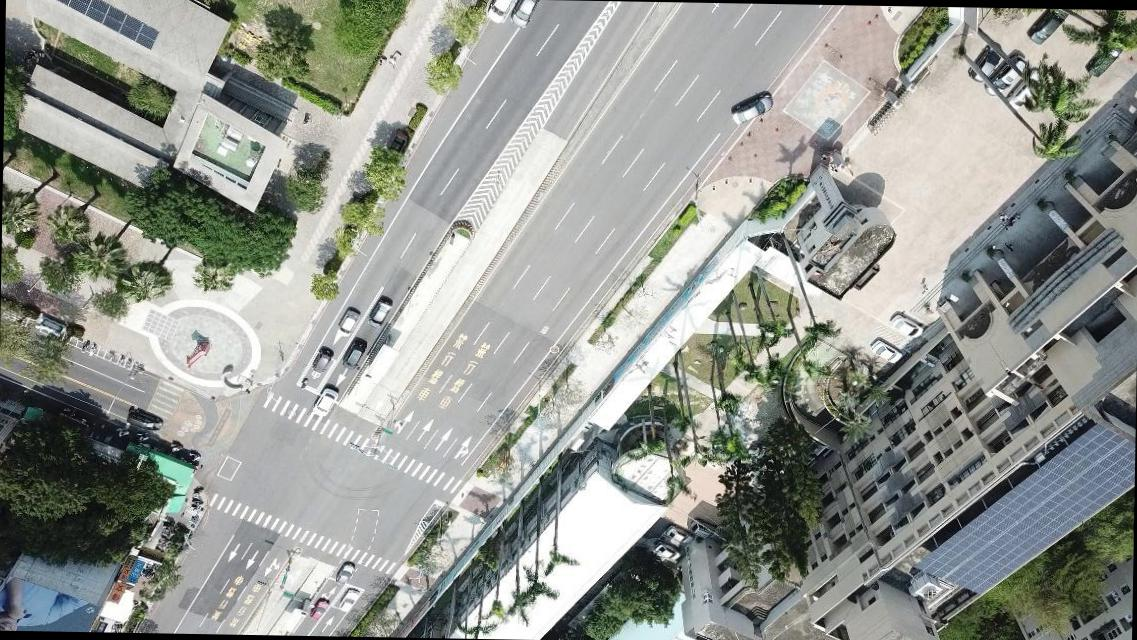vehicle: (985, 52, 1028, 97), (1028, 8, 1072, 45), (1008, 70, 1044, 111), (728, 90, 771, 124), (968, 44, 1001, 86), (1087, 40, 1124, 77), (510, 0, 540, 31), (872, 336, 905, 364), (127, 408, 163, 432), (313, 386, 339, 419), (336, 305, 362, 337), (890, 312, 921, 338), (485, 0, 515, 26), (370, 296, 394, 326), (346, 336, 366, 369), (653, 542, 682, 564), (339, 585, 359, 613), (691, 518, 718, 538), (665, 526, 692, 545), (315, 348, 334, 373), (312, 596, 330, 620), (338, 562, 356, 584)
